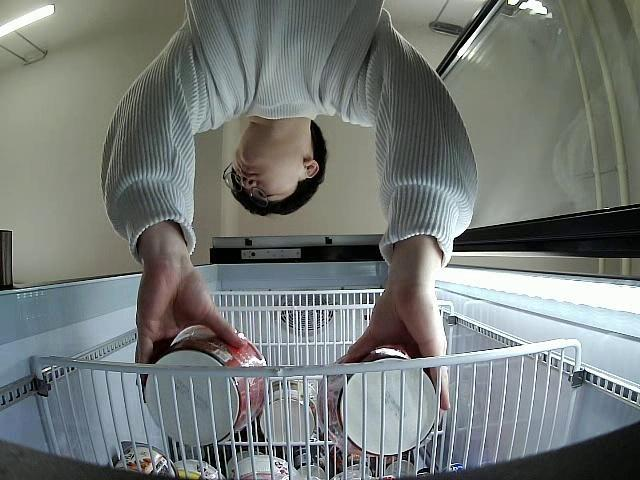01_ShinRamen_L: (144, 324, 270, 446), (315, 346, 441, 460)
